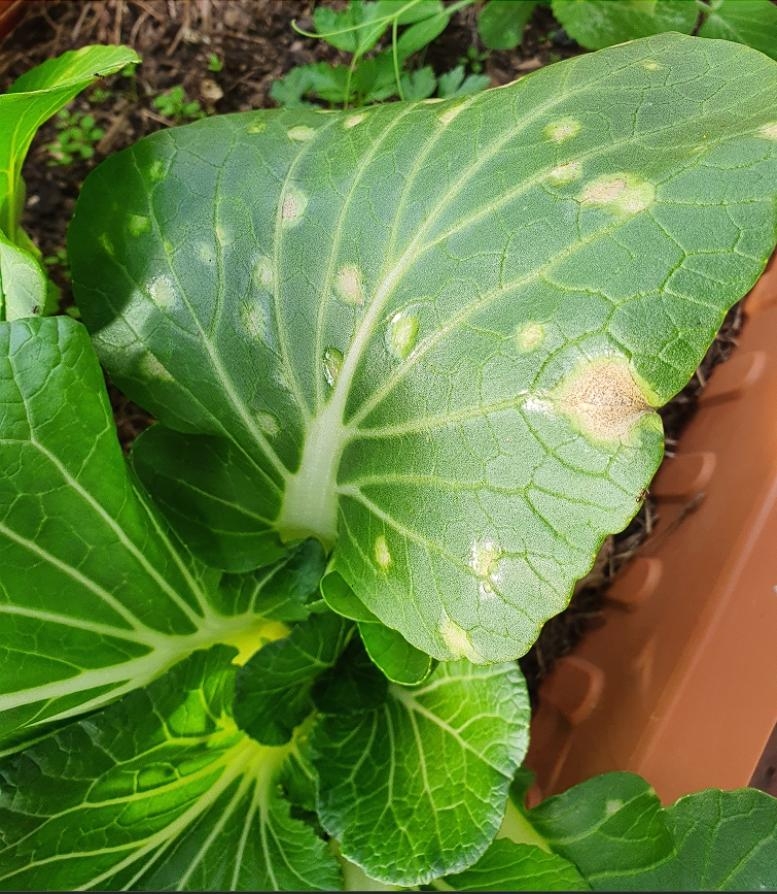Bok-Choy-Diseased: (78, 121, 685, 598)
